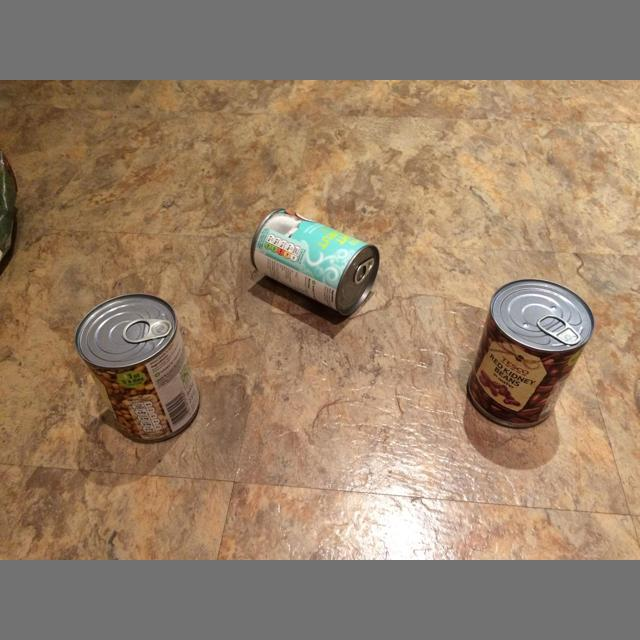litter: (74, 294, 200, 443), (468, 279, 594, 428), (251, 208, 380, 316), (537, 315, 581, 346), (122, 319, 171, 344), (354, 258, 374, 284)
